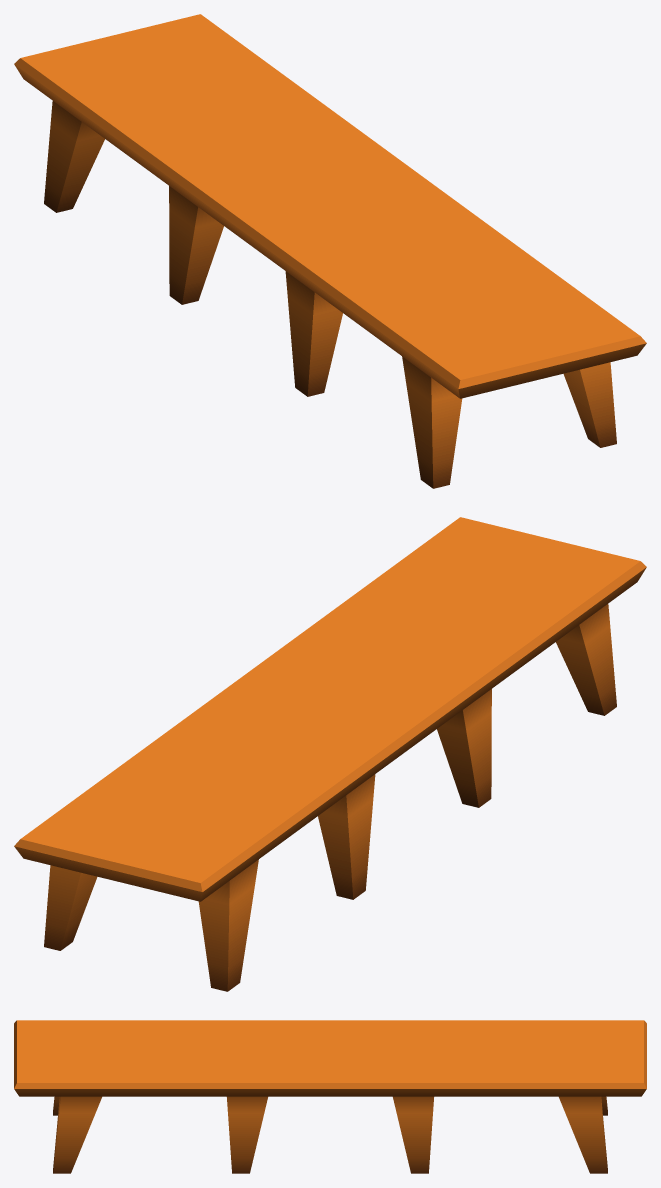
Rendered from mesa.fbx.
3 views of the same model, one above another, from view 1: azimuth 30°, elevation 25°; view 2: azimuth 150°, elevation 25°; view 3: azimuth 270°, elevation 25° (orthographic). The views are drawn at different scales.
Parts seen in each view (by area): view 1: mesa; view 2: mesa; view 3: mesa.
Boxes of the visible parts, left/top/right/bottom form: mesa: left=14, top=14, right=646, bottom=488; mesa: left=14, top=517, right=646, bottom=991; mesa: left=14, top=1020, right=646, bottom=1173.
Size of the model in its own units: 389 by 250 by 1587.
